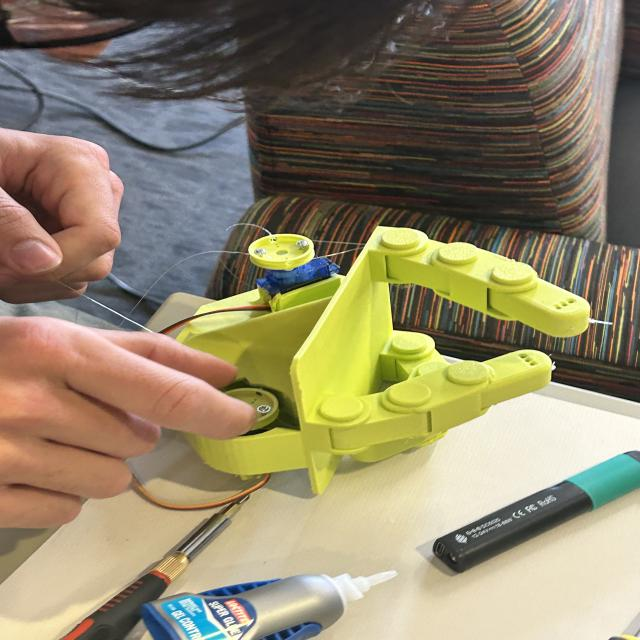prosthetic: (174, 223, 594, 495)
